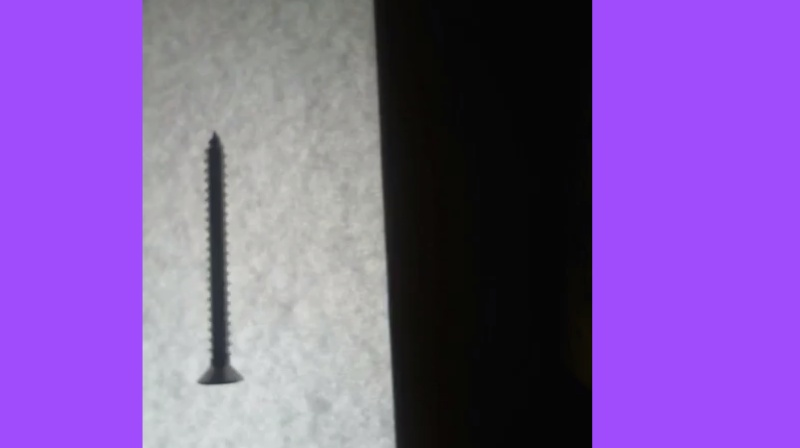S002: (188, 126, 246, 389)
